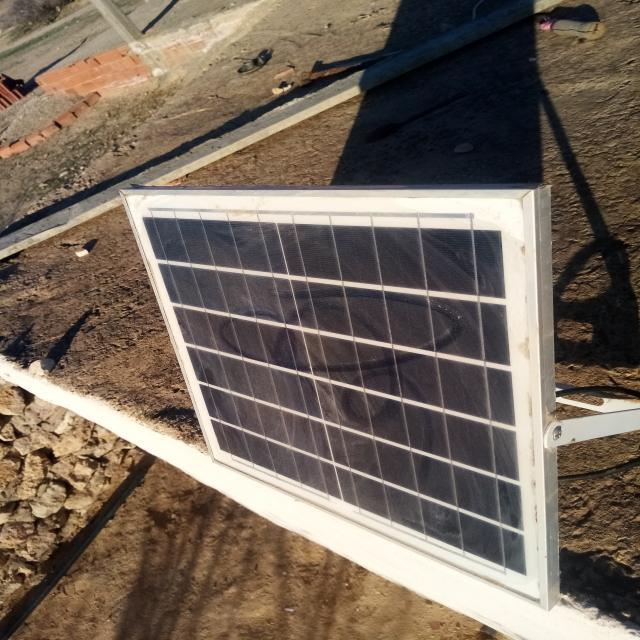faulty: (123, 192, 542, 606)
